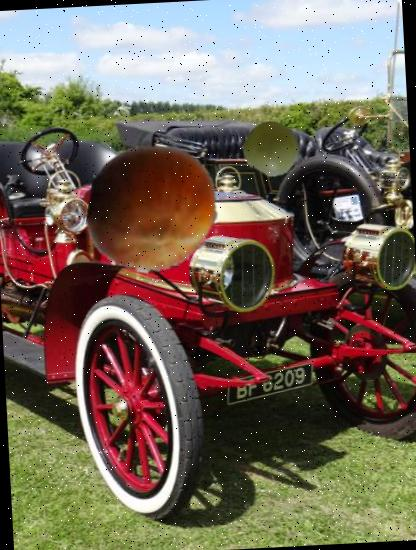Grape: (243, 120, 302, 179)
Nut: (86, 140, 222, 276)
